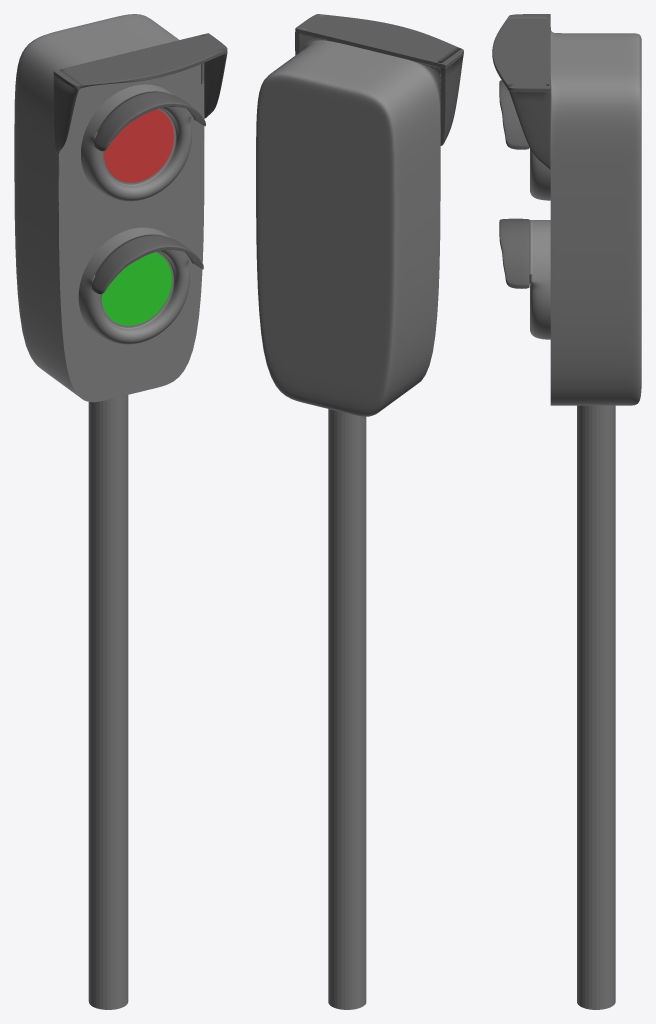
File: TrafficLight.fbx
3 renders of one model, left to right at view 1: azimuth 30°, elevation 25°; view 2: azimuth 150°, elevation 25°; view 3: azimuth 270°, elevation 25°, orthographic. The views are drawn at different scales.
Parts seen in each view (by area): view 1: Cube, Cylinder.002, Cylinder.001, Cylinder; view 2: Cube, Cylinder.002; view 3: Cube, Cylinder.002, Cylinder.001, Cylinder.
Boxes of the visible parts, x1,y1,x2,y2 form: Cube: [14, 14, 227, 402]; Cylinder.002: [88, 395, 128, 1009]; Cylinder.001: [78, 227, 203, 344]; Cylinder: [81, 84, 205, 201]; Cube: [256, 14, 463, 416]; Cylinder.002: [328, 409, 366, 1009]; Cube: [492, 14, 641, 405]; Cylinder.002: [577, 405, 615, 1009]; Cylinder.001: [499, 218, 550, 339]; Cylinder: [499, 80, 550, 200].
Bounding box in the file's own units: 213 × 1268 × 181.
